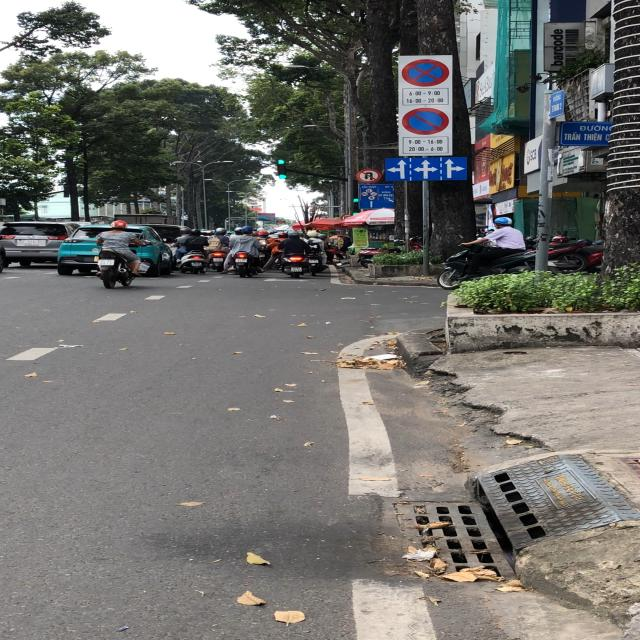Bien bao cam do xe: (401, 106, 452, 135)
Bien bao cam dung xe va do xe: (398, 57, 450, 87)
Bien bao cam quay dau xe: (354, 168, 384, 183)
